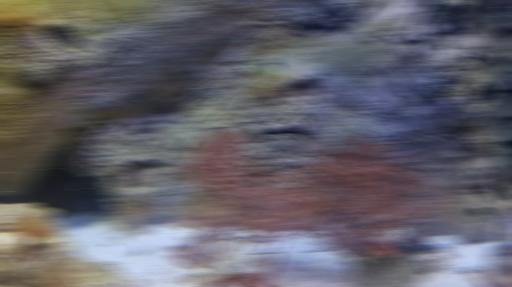Fish: (368, 240, 400, 260)
